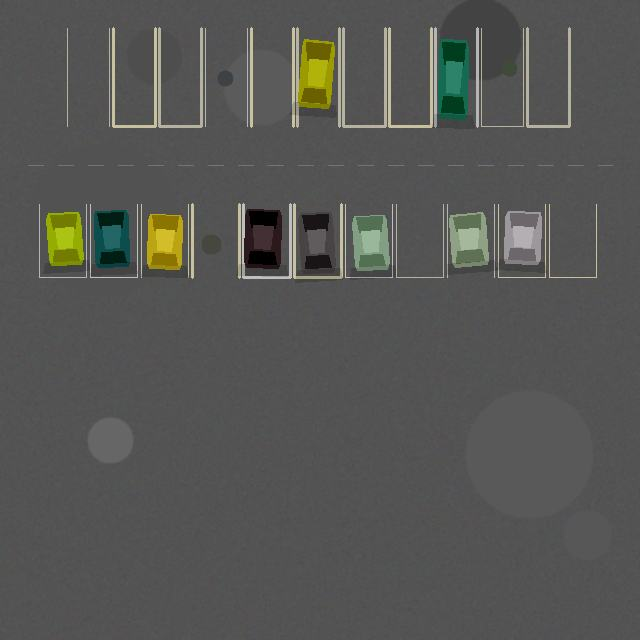space-empty: (67, 28, 109, 126), (113, 28, 155, 126), (159, 28, 201, 126), (205, 28, 247, 126), (251, 28, 293, 126), (343, 28, 385, 126), (389, 28, 431, 126), (481, 28, 523, 126), (527, 28, 569, 126), (192, 204, 239, 277), (396, 204, 443, 277), (549, 204, 596, 277)
space-occupied: (297, 28, 339, 126), (435, 28, 477, 126), (39, 204, 86, 277), (90, 204, 137, 277), (141, 204, 188, 277), (243, 204, 290, 277), (294, 204, 341, 277), (345, 204, 392, 277), (447, 204, 494, 277), (498, 204, 545, 277)
